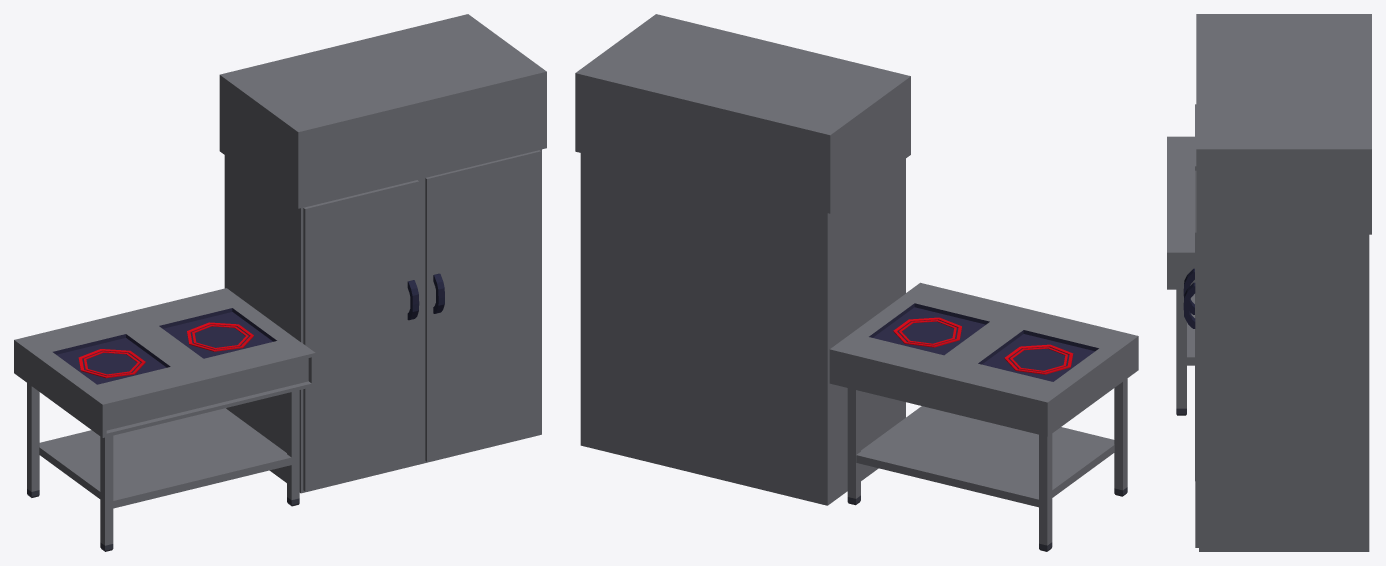
Rendered from kit cozinha2.fbx.
The picture shows the model from 3 angles, left to right: view 1: azimuth 30°, elevation 25°; view 2: azimuth 150°, elevation 25°; view 3: azimuth 270°, elevation 25°; orthographic projection. The views are drawn at different scales.
Visible parts, largest first — view 1: Cube, Cube.012, Cube.001, Circle, Circle.001; view 2: Cube, Cube.012, Cube.001, Circle, Circle.001; view 3: Cube, Cube.012, Cube.003.
Boxes of the visible parts, left/top/right/bottom form: Cube: left=219, top=14, right=546, bottom=493; Cube.012: left=14, top=288, right=315, bottom=551; Cube.001: left=53, top=308, right=276, bottom=384; Circle: left=78, top=349, right=145, bottom=378; Circle.001: left=187, top=322, right=253, bottom=351; Cube: left=575, top=14, right=910, bottom=505; Cube.012: left=829, top=282, right=1138, bottom=551; Cube.001: left=869, top=303, right=1098, bottom=381; Circle: left=1004, top=344, right=1073, bottom=374; Circle.001: left=893, top=317, right=961, bottom=347; Cube: left=1195, top=14, right=1371, bottom=551; Cube.012: left=1167, top=136, right=1194, bottom=415; Cube.003: left=1183, top=282, right=1195, bottom=328.
Bounding box in the file's own units: 692 × 528 × 241.
